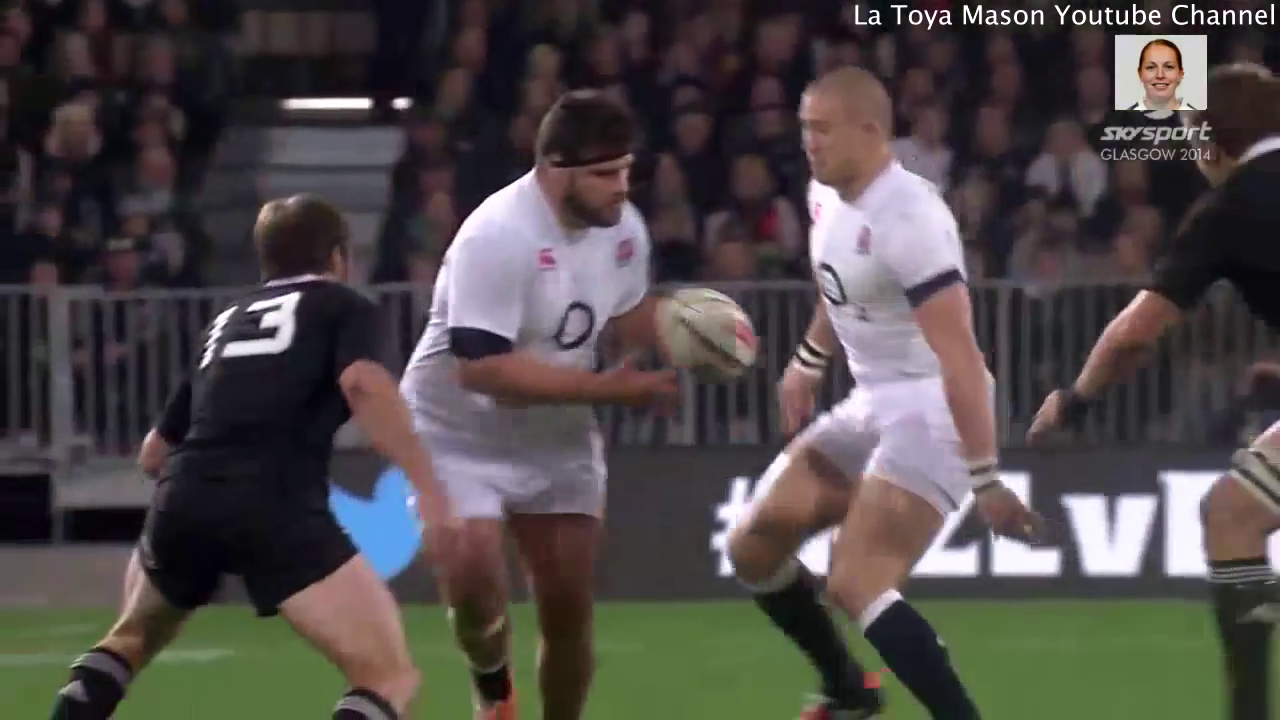ball: (643, 280, 761, 389)
player: (728, 64, 1045, 720), (46, 187, 432, 720), (392, 87, 662, 720), (1023, 56, 1280, 716)
